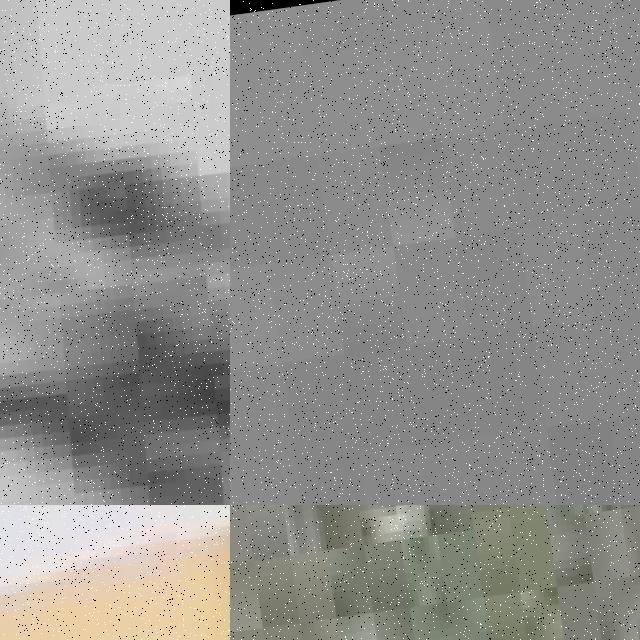0: (0, 0, 230, 505)
drone: (0, 505, 230, 640)
